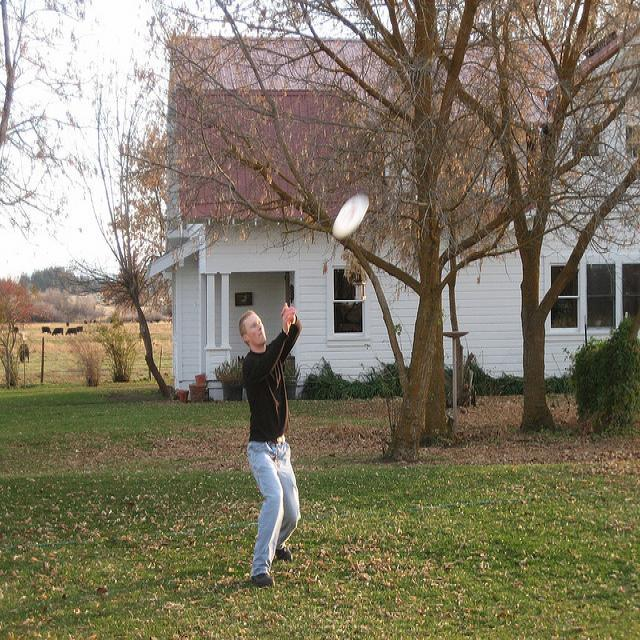cow: (17, 342, 28, 362), (50, 325, 62, 335), (63, 326, 76, 334), (40, 324, 50, 333), (75, 325, 81, 331), (65, 319, 68, 325)
